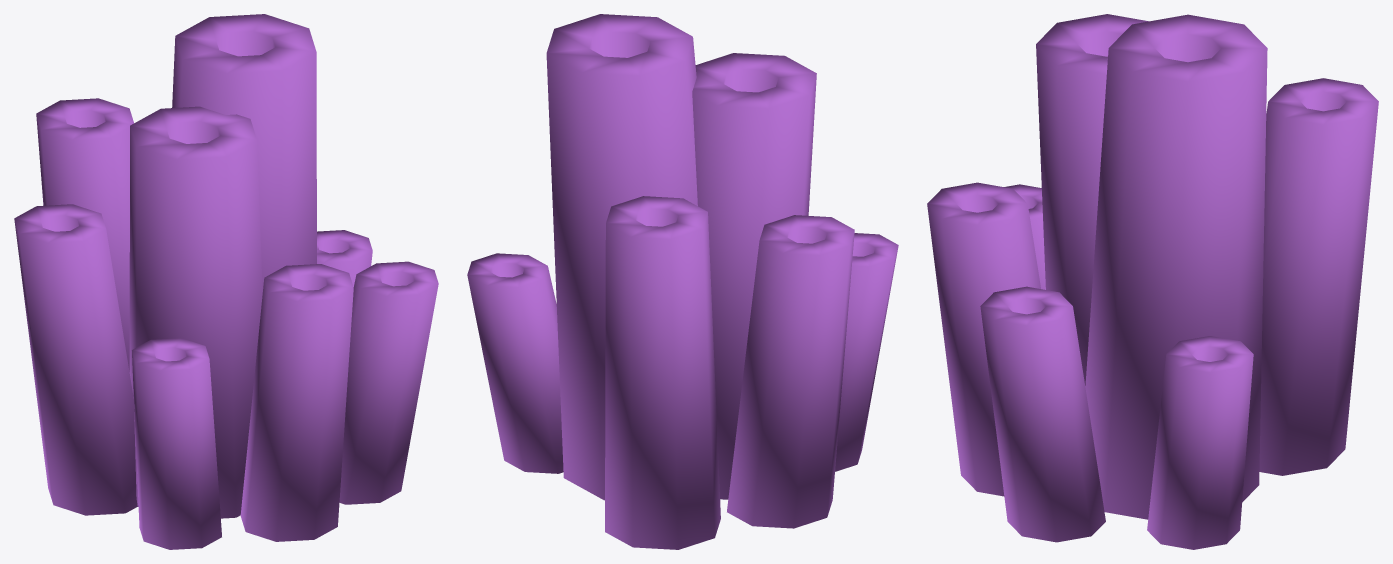
File: Medium1.fbx
The picture shows the model from 3 angles, left to right: view 1: azimuth 30°, elevation 25°; view 2: azimuth 150°, elevation 25°; view 3: azimuth 270°, elevation 25°; orthographic projection. The views are drawn at different scales.
Visible parts, largest first — view 1: Medium1; view 2: Medium1; view 3: Medium1.
Boxes of the visible parts, left/top/right/bottom form: Medium1: left=14, top=14, right=438, bottom=549; Medium1: left=467, top=14, right=898, bottom=549; Medium1: left=927, top=14, right=1378, bottom=549.
Bounding box in the file's own units: 3.28 × 3.6 × 3.3.
